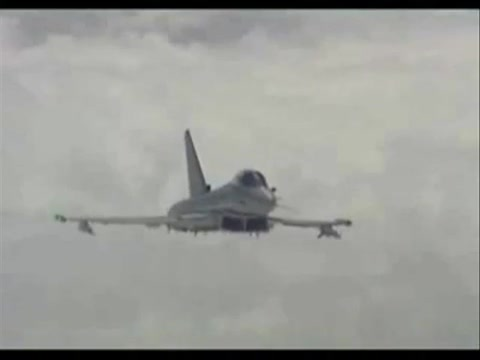aeroplane: (56, 130, 354, 241)
